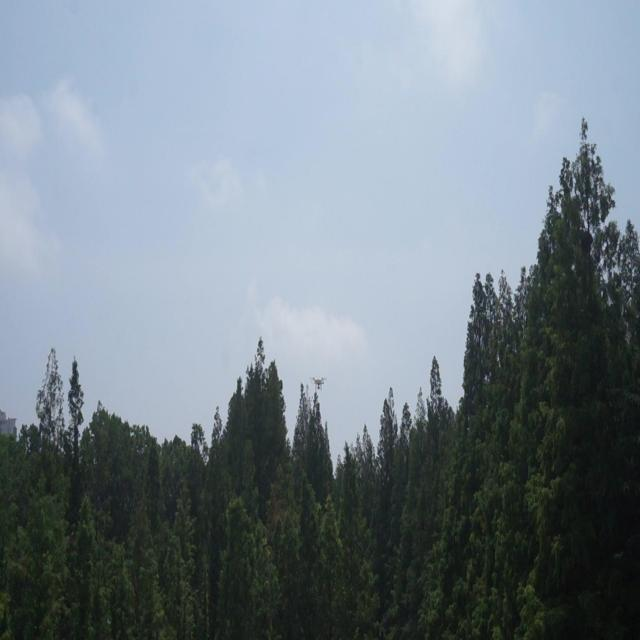UAV: (309, 377, 327, 391)
